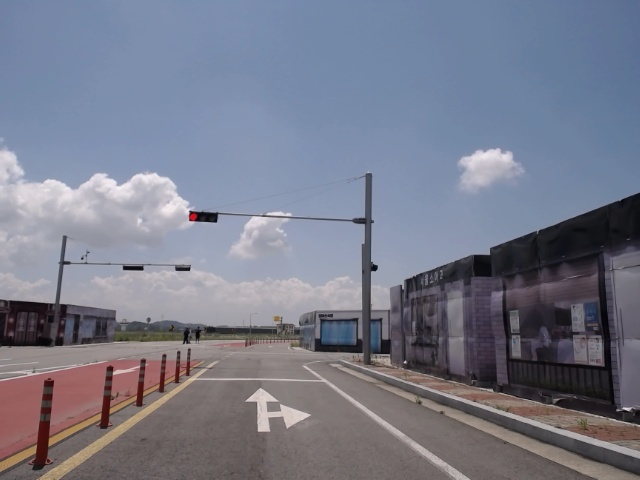red_3: (188, 211, 218, 223)
